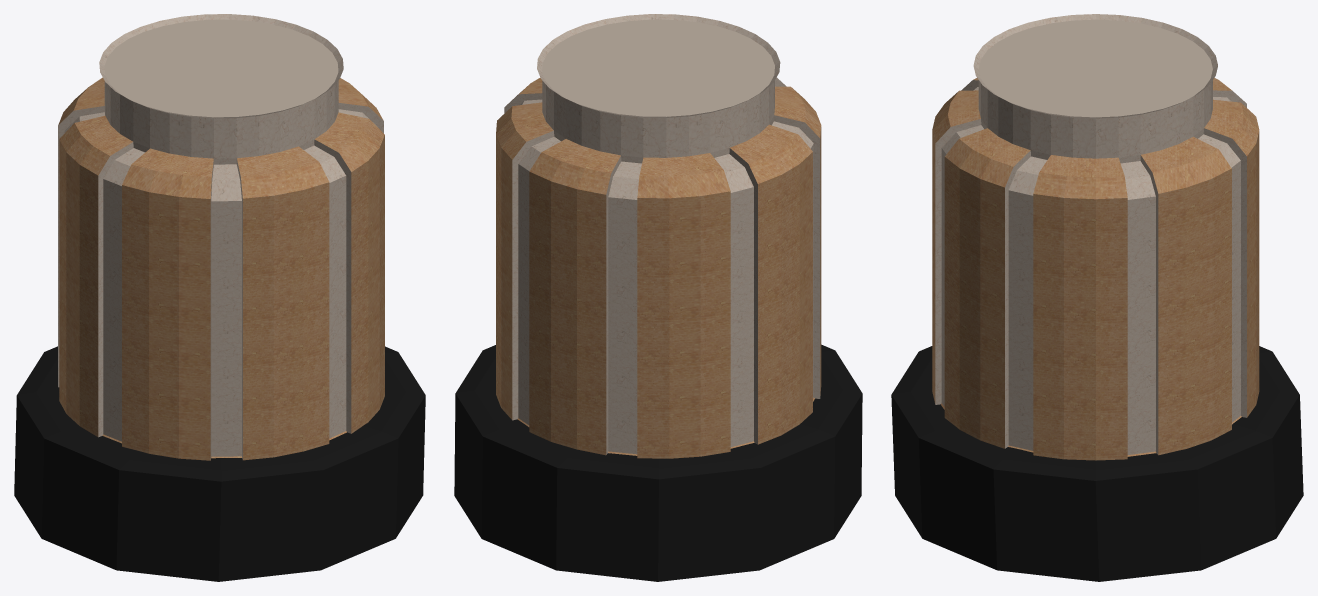
Rendered from map.obj.
The picture shows the model from 3 angles, left to right: view 1: azimuth 30°, elevation 25°; view 2: azimuth 150°, elevation 25°; view 3: azimuth 270°, elevation 25°; orthographic projection.
Visible parts, largest first — view 1: OuterDome_textured, bigtire1_tire_tforce[145], InvisibleCeiling_invis; view 2: OuterDome_textured, bigtire1_tire_tforce[145], InvisibleCeiling_invis; view 3: OuterDome_textured, bigtire1_tire_tforce[145], InvisibleCeiling_invis.
Boxes of the visible parts, box(x1,y1,x2,y2) form: OuterDome_textured: box(58, 14, 384, 460); bigtire1_tire_tforce[145]: box(14, 346, 425, 581); InvisibleCeiling_invis: box(104, 19, 338, 117); OuterDome_textured: box(496, 14, 821, 458); bigtire1_tire_tforce[145]: box(454, 344, 862, 581); InvisibleCeiling_invis: box(542, 19, 774, 116); OuterDome_textured: box(932, 14, 1259, 460); bigtire1_tire_tforce[145]: box(891, 346, 1303, 581); InvisibleCeiling_invis: box(978, 19, 1212, 117).
Size of what is drawn, in the model's own units: 240 by 280 by 241.
8 materials, 4 textured.
